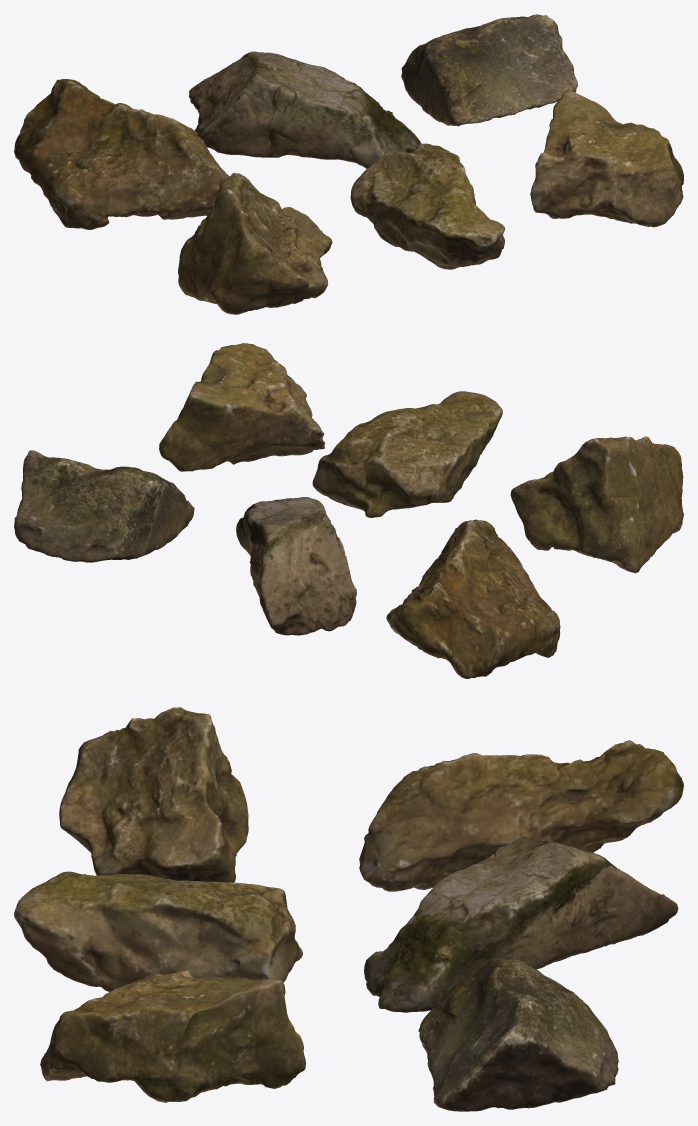
File: rock_moss_set.glb
3 renders of one model, top to bottom at view 1: azimuth 30°, elevation 25°; view 2: azimuth 150°, elevation 25°; view 3: azimuth 270°, elevation 25°, orthographic. The views are drawn at different scales.
Visible parts, largest first — view 1: rock_moss_01, rock_moss_02, rock_moss_06, rock_moss_04, rock_moss_03, rock_moss_05; view 2: rock_moss_04, rock_moss_01, rock_moss_05, rock_moss_03, rock_moss_06, rock_moss_02; view 3: rock_moss_01, rock_moss_02, rock_moss_05, rock_moss_04, rock_moss_06, rock_moss_03.
Part boxes in pixels (box(x1,y1,x2,y2)): rock_moss_01: box(14, 79, 229, 229); rock_moss_02: box(189, 51, 421, 168); rock_moss_06: box(530, 89, 683, 227); rock_moss_04: box(178, 173, 332, 314); rock_moss_03: box(401, 14, 577, 126); rock_moss_05: box(350, 143, 504, 269); rock_moss_04: box(510, 436, 683, 573); rock_moss_01: box(386, 519, 560, 678); rock_moss_05: box(312, 391, 502, 517); rock_moss_03: box(14, 450, 194, 562); rock_moss_06: box(159, 343, 325, 471); rock_moss_02: box(236, 497, 356, 635); rock_moss_01: box(359, 740, 683, 891); rock_moss_02: box(364, 836, 678, 1012); rock_moss_05: box(14, 871, 302, 991); rock_moss_04: box(59, 707, 248, 882); rock_moss_06: box(40, 970, 305, 1102); rock_moss_03: box(418, 956, 618, 1111).
Size of the model in its own units: 8 by 1.77 by 6.95.
1 material, 1 textured.
